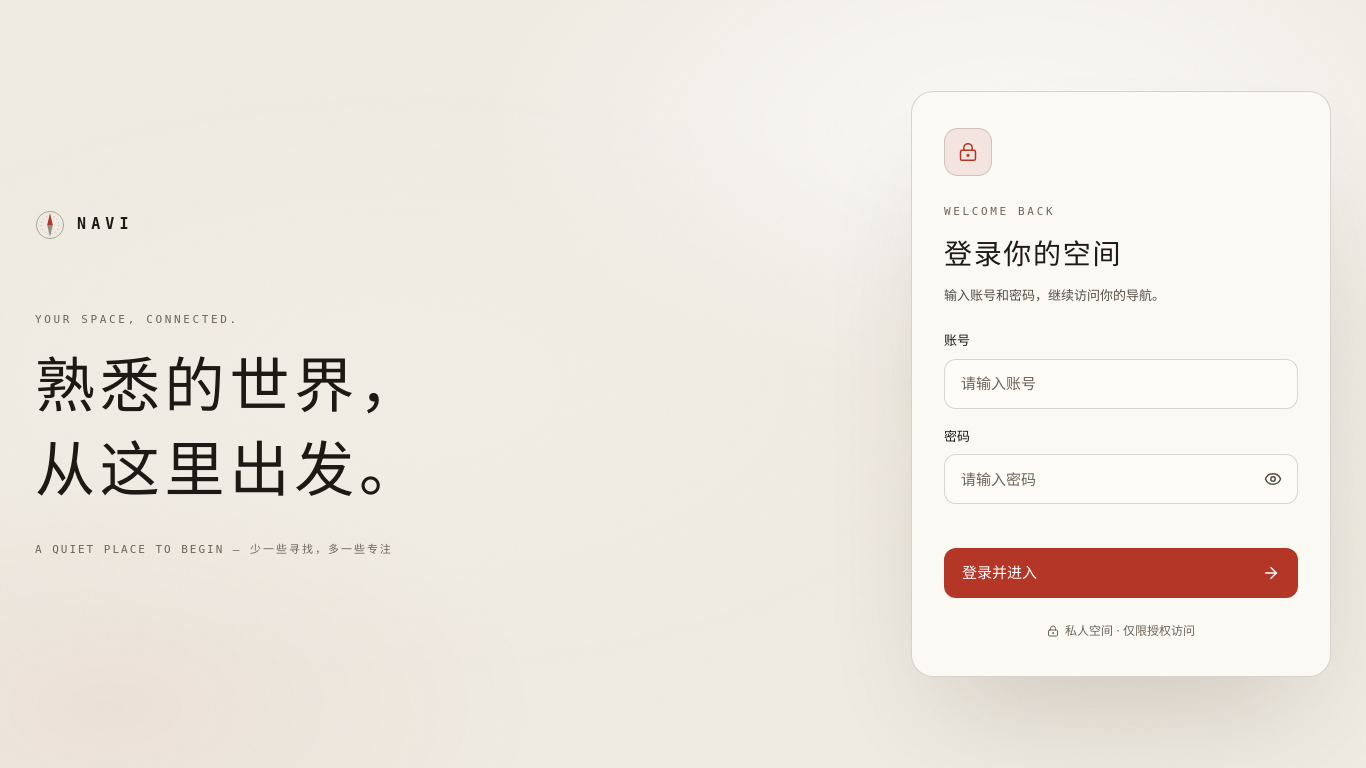
LoginPage › supports password visibility without changing the credential value
Type "secret" into the password field labelled "密码" at coordinates (1121, 479), box [944,454,1298,504]
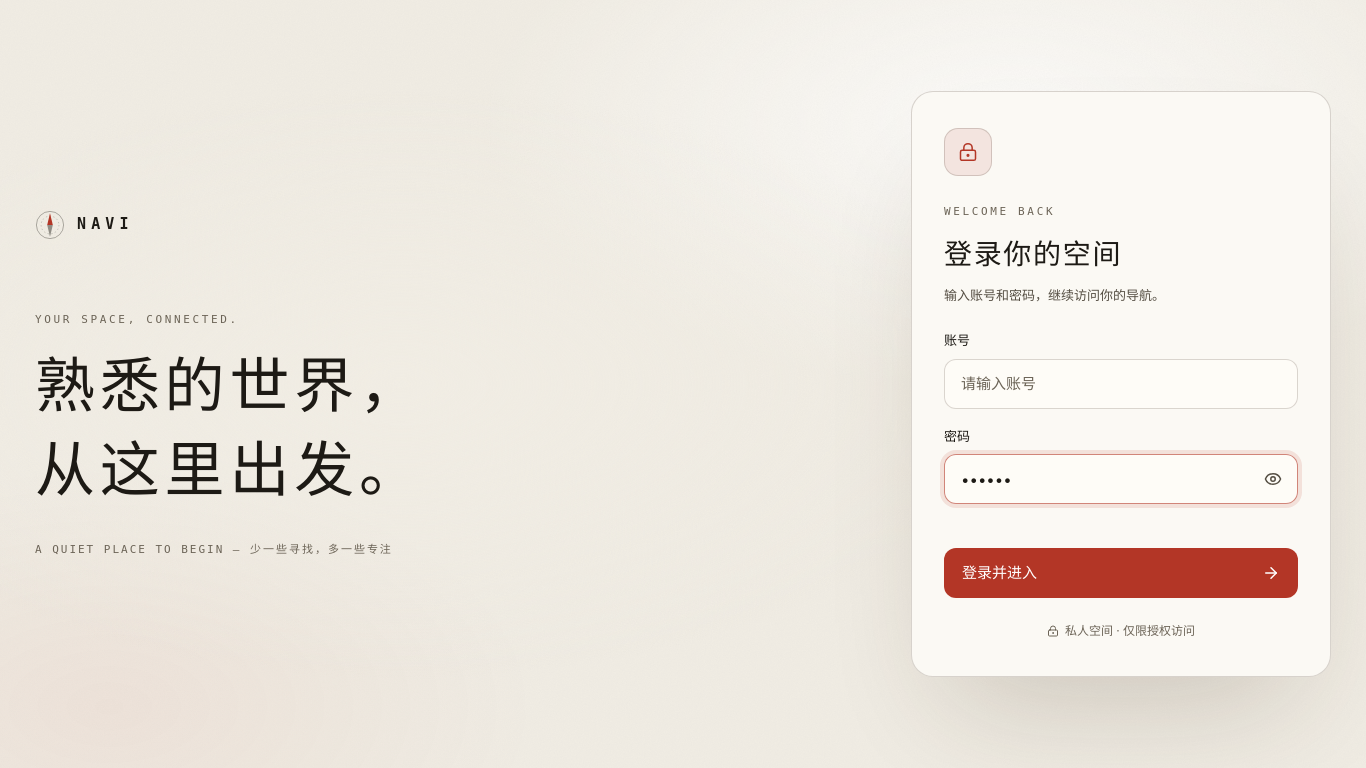
Click the button named "显示密码" at coordinates (1273, 479), box [1251,457,1295,501]
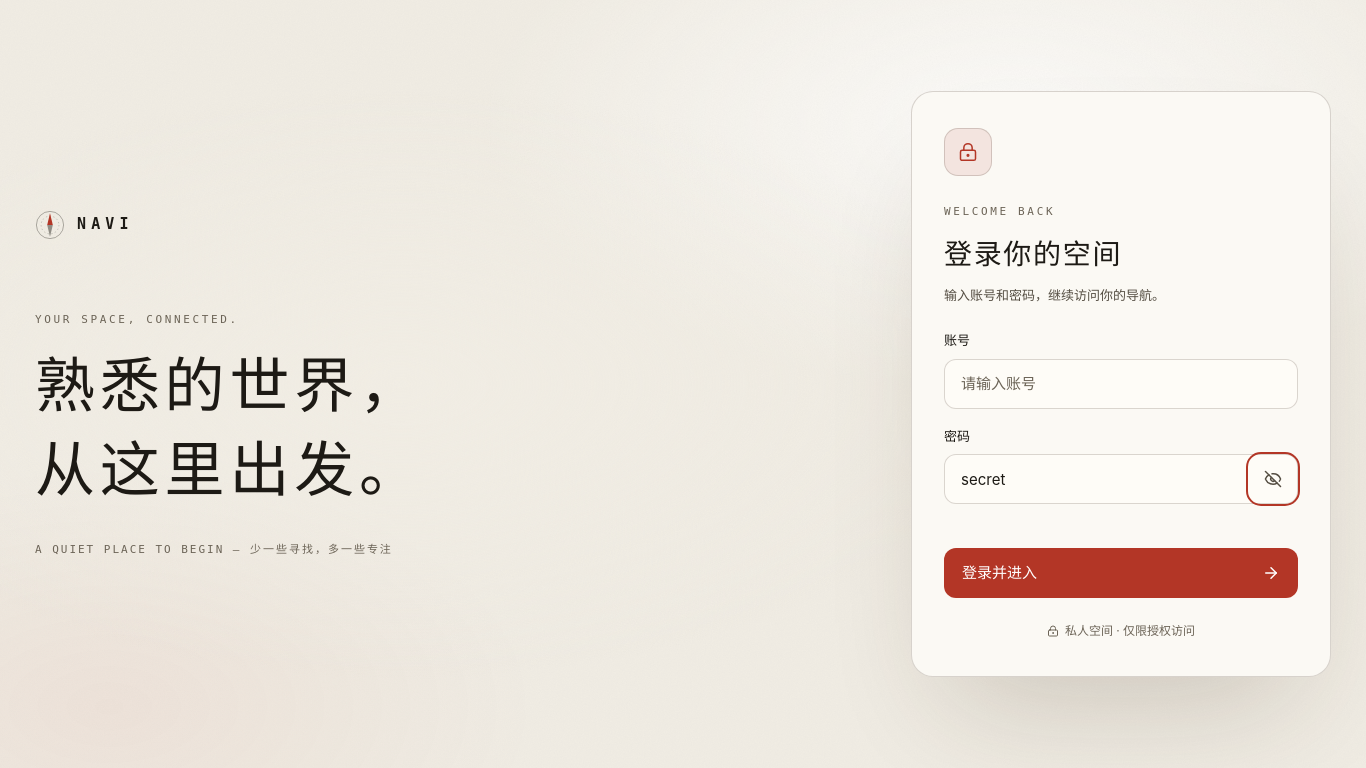
expect the field labelled "密码" shows its text: met, box [944,454,1298,504]
Click the button named "隐藏密码" at coordinates (1273, 479), box [1251,457,1295,501]
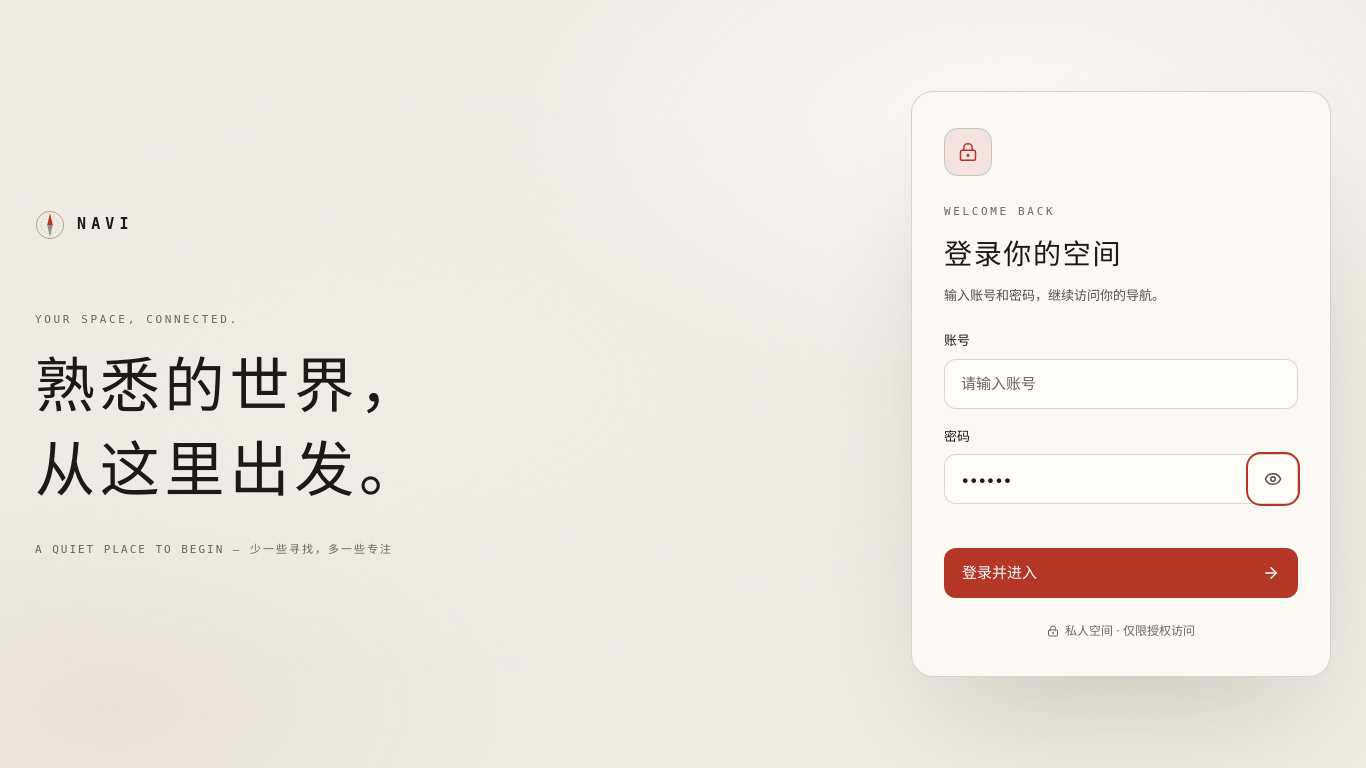
expect the password field labelled "密码" hides its text: met, box [944,454,1298,504]
